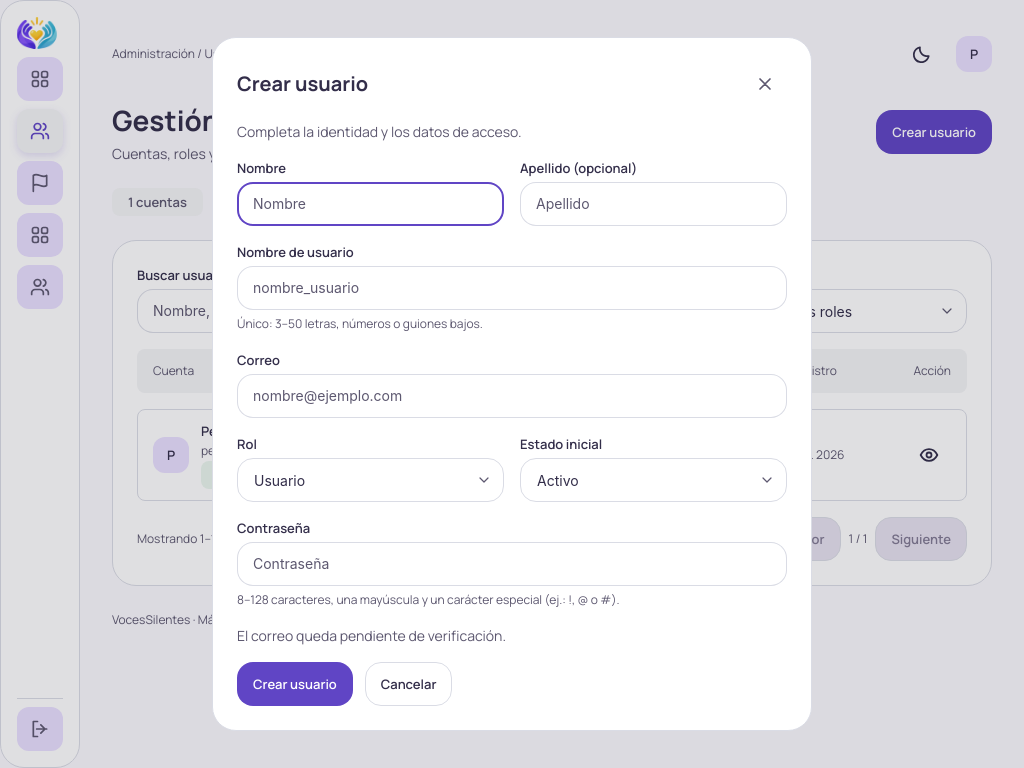
Test: crear: rechaza Abcd1234 antes de enviar y explica el requisito
The image size is (1024, 768).
Expected: the heading "Crear usuario" is shown, [237,70,368,97]
Expected: the text "8–128 caracteres, una mayúscula y un carácter especial" is shown, [237,591,620,608]
In the field labelled "Nombre": [370, 204] box [253,194,488,214], type "Persona"
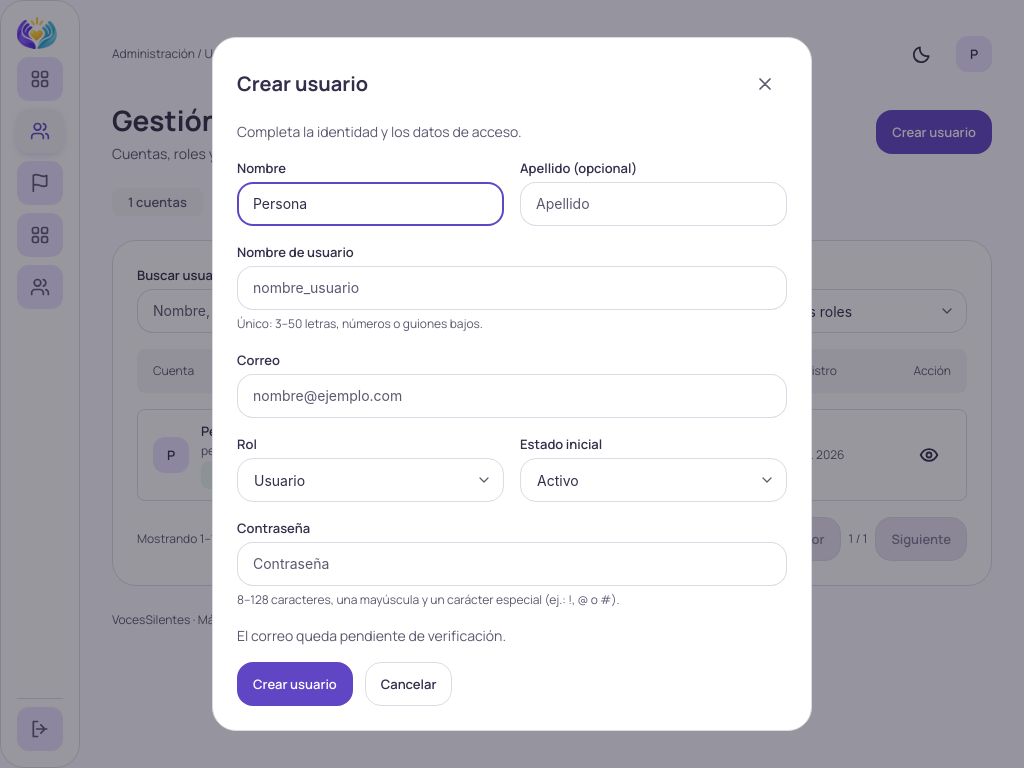
In the field labelled "Nombre de usuario": [512, 288] box [253,278,771,298], type "persona_admin"
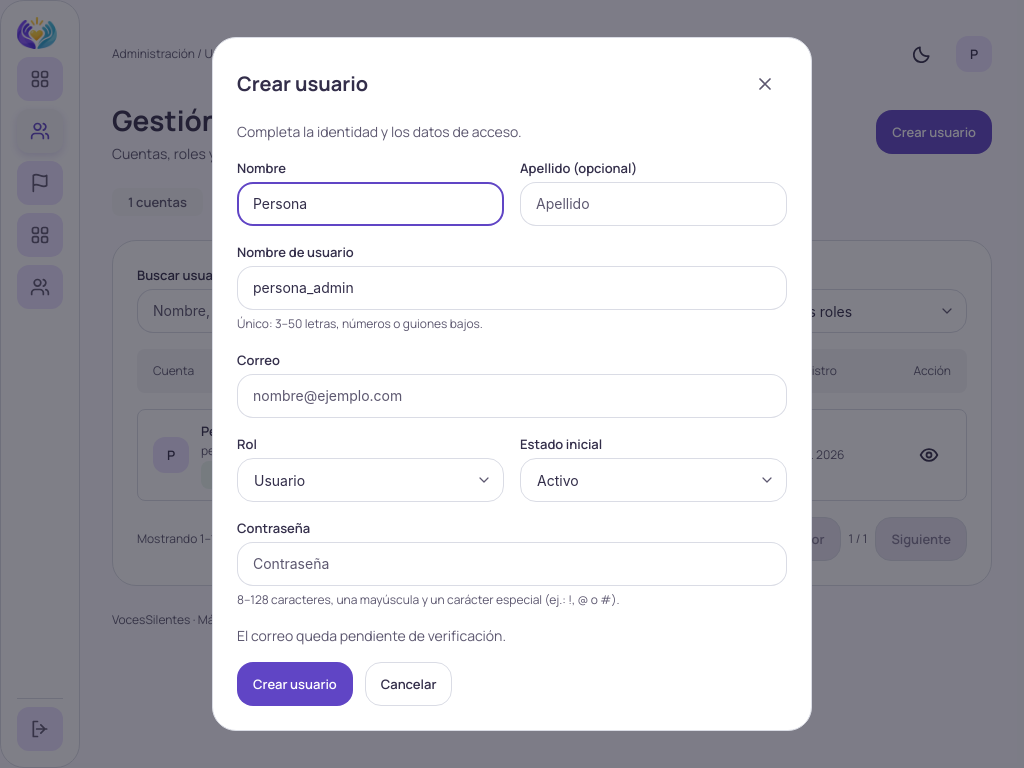
In the field labelled "Correo": [512, 396] box [253,386,771,406], type "person@example.invalid"
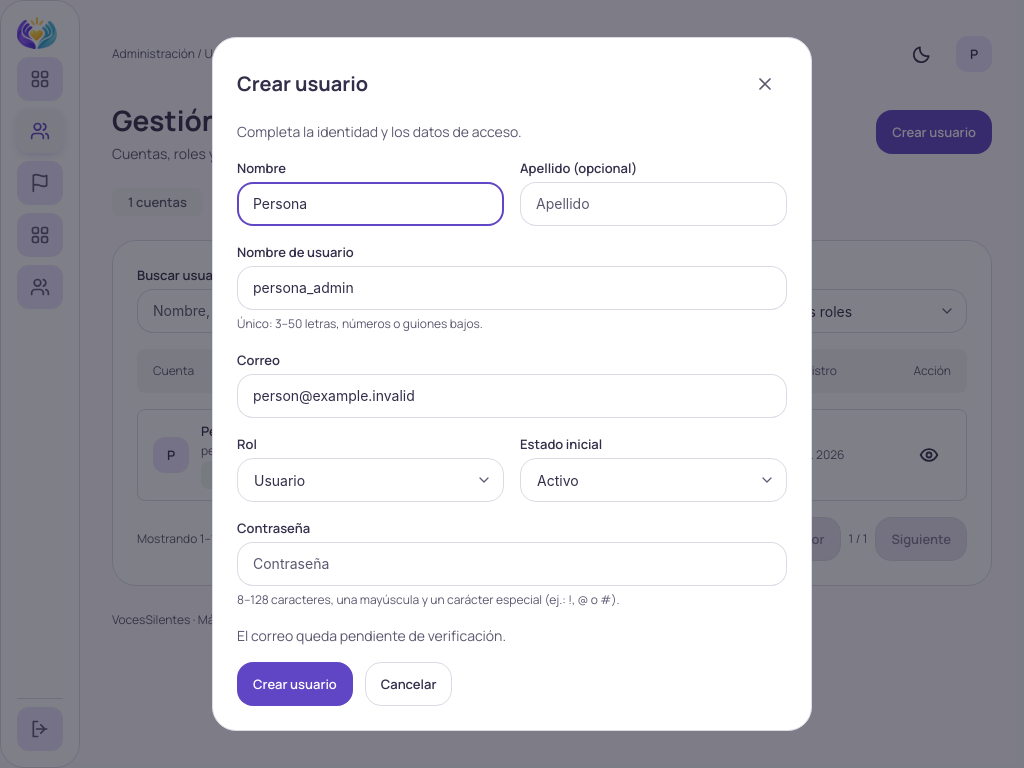
In the password field labelled "Contraseña": [512, 564] box [253,554,771,574], type "Una frase de prueba 123!"
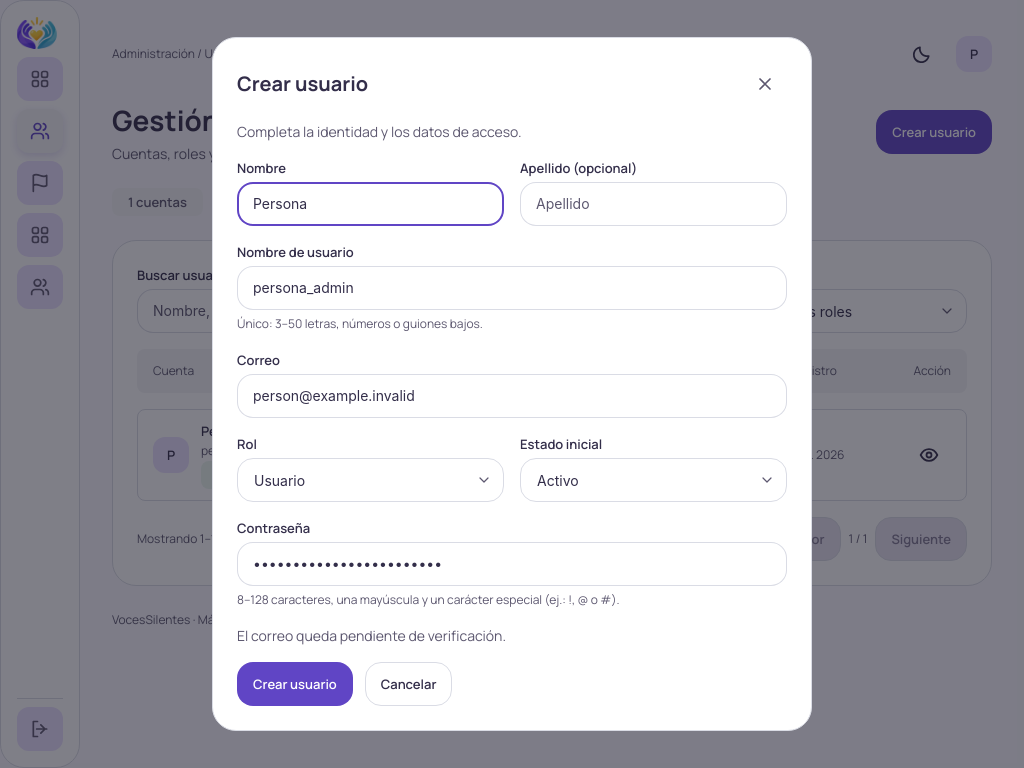
In the password field labelled "Contraseña": [512, 564] box [253,554,771,574], type "Abcd1234"
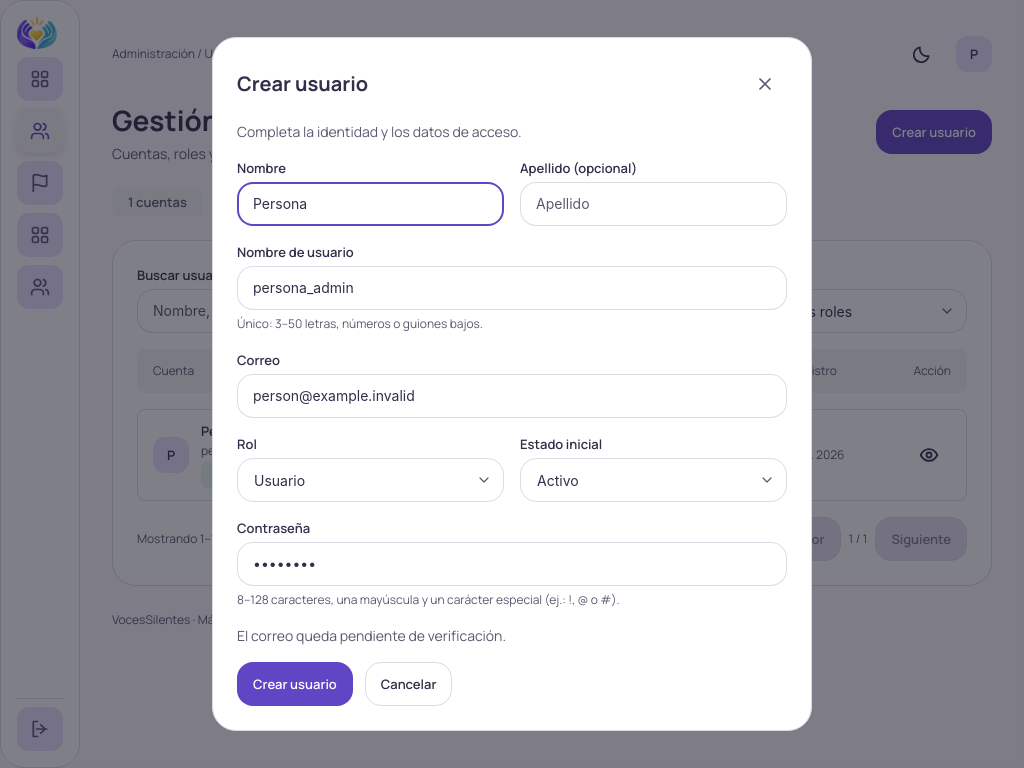
Click the button "Crear usuario": [295, 684] box [237,662,353,706]
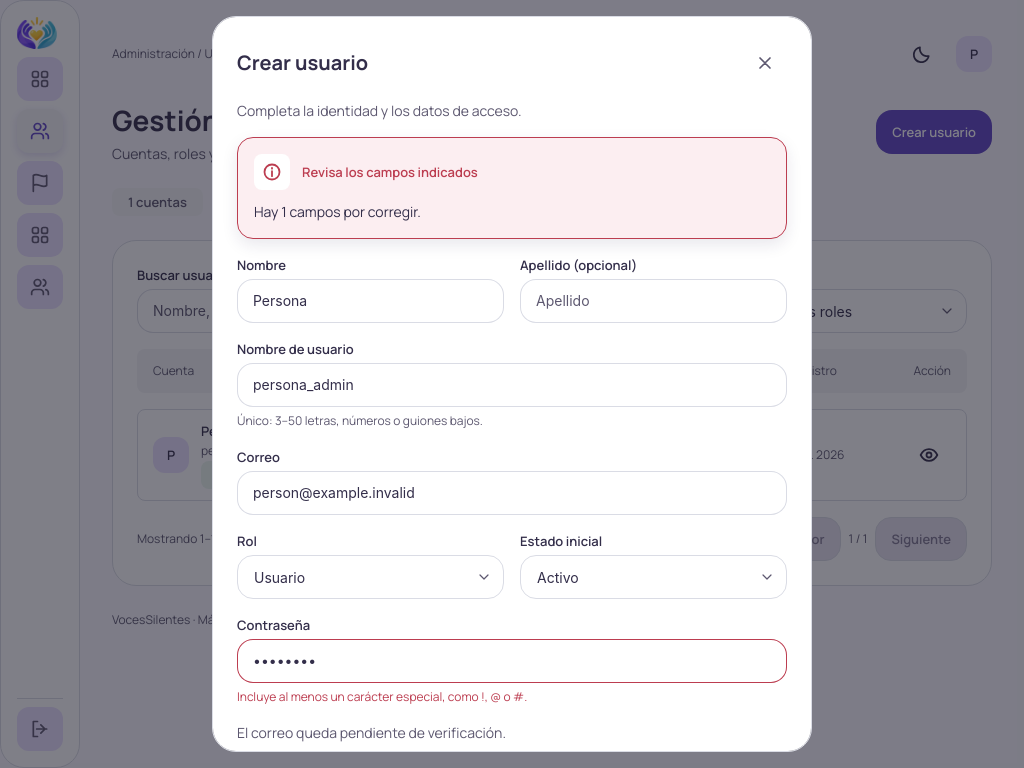
Now the text "Incluye al menos un carácter especial, como !, @ o #." is shown, box [237,688,527,705]
